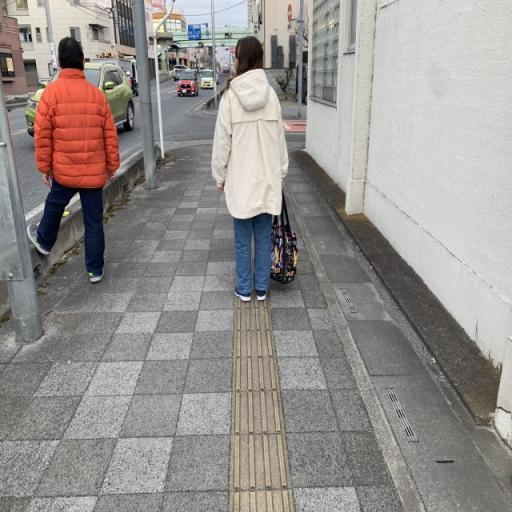line: (229, 433, 293, 494), (232, 390, 286, 434), (233, 357, 281, 392), (229, 488, 295, 511), (232, 330, 275, 357)
